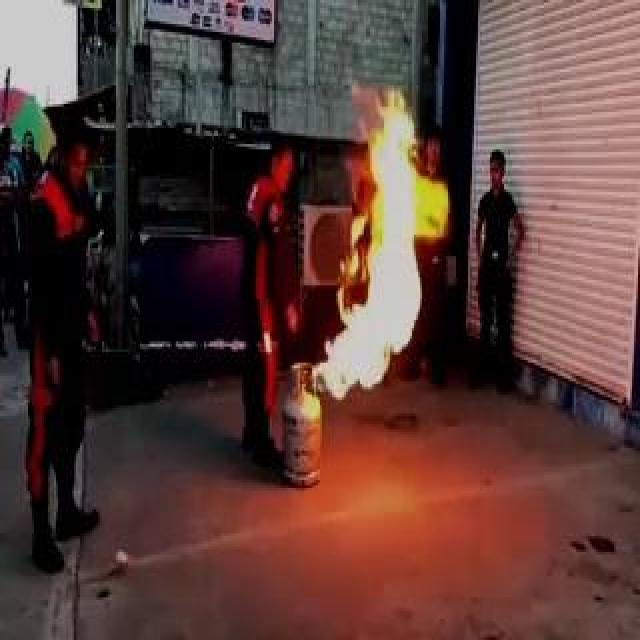Smoke: (309, 120, 429, 403)
